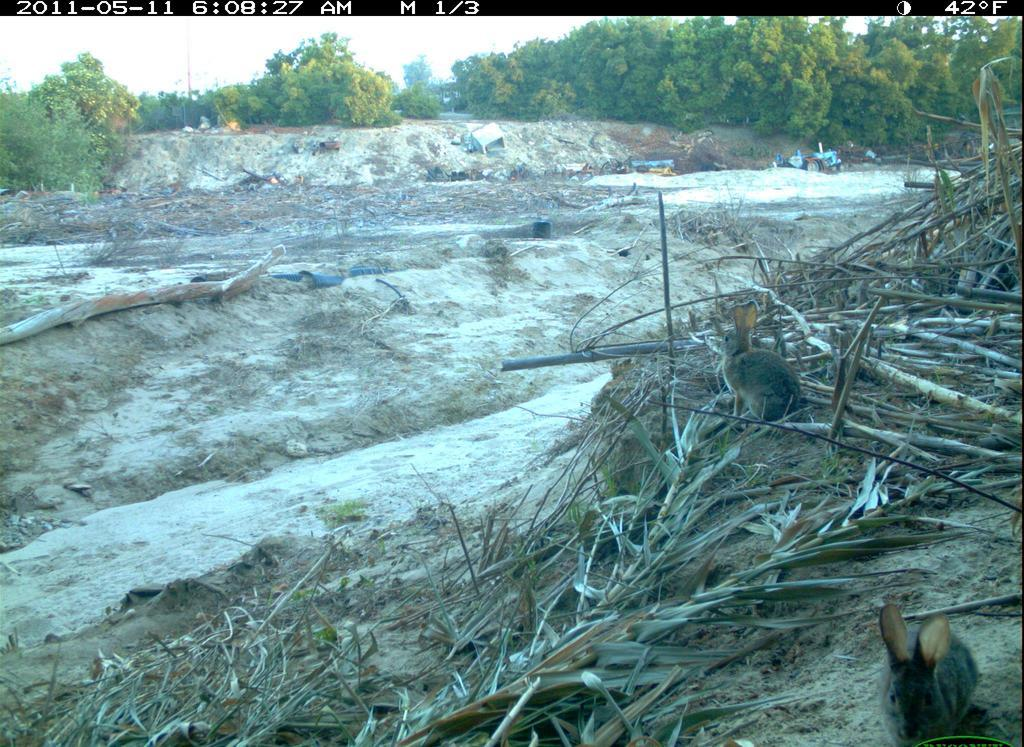rabbit: (875, 582, 978, 734), (717, 294, 813, 428)
